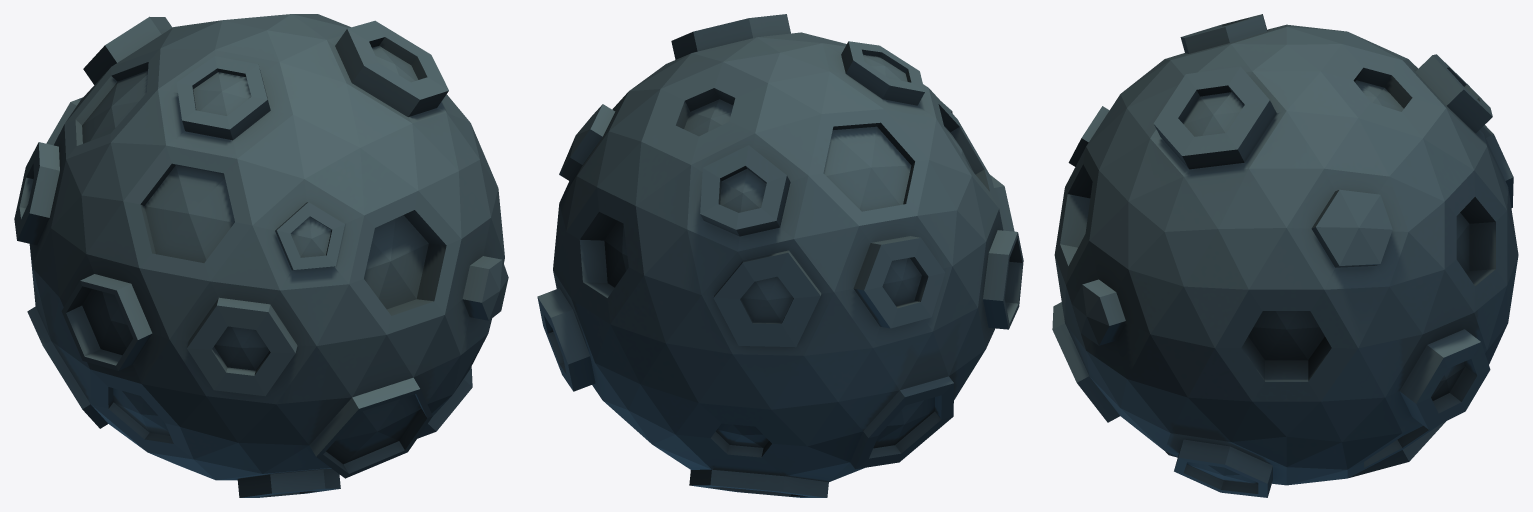
The model's file is PUSHILIN_moon.gltf.
3 views of the same model, side by side, from view 1: azimuth 30°, elevation 25°; view 2: azimuth 150°, elevation 25°; view 3: azimuth 270°, elevation 25° (orthographic). The views are drawn at different scales.
Visible parts, largest first — view 1: node-0; view 2: node-0; view 3: node-0.
Boxes of the visible parts, x1,y1,x2,y2 form: node-0: (14,14,508,497); node-0: (537,14,1023,497); node-0: (1052,14,1518,497).
Bounding box in the file's own units: 1.63 × 1.66 × 1.63.
1 material, 1 textured.
